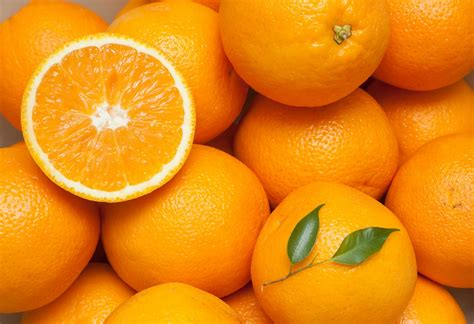orange: (250, 178, 422, 324), (215, 1, 394, 111)
